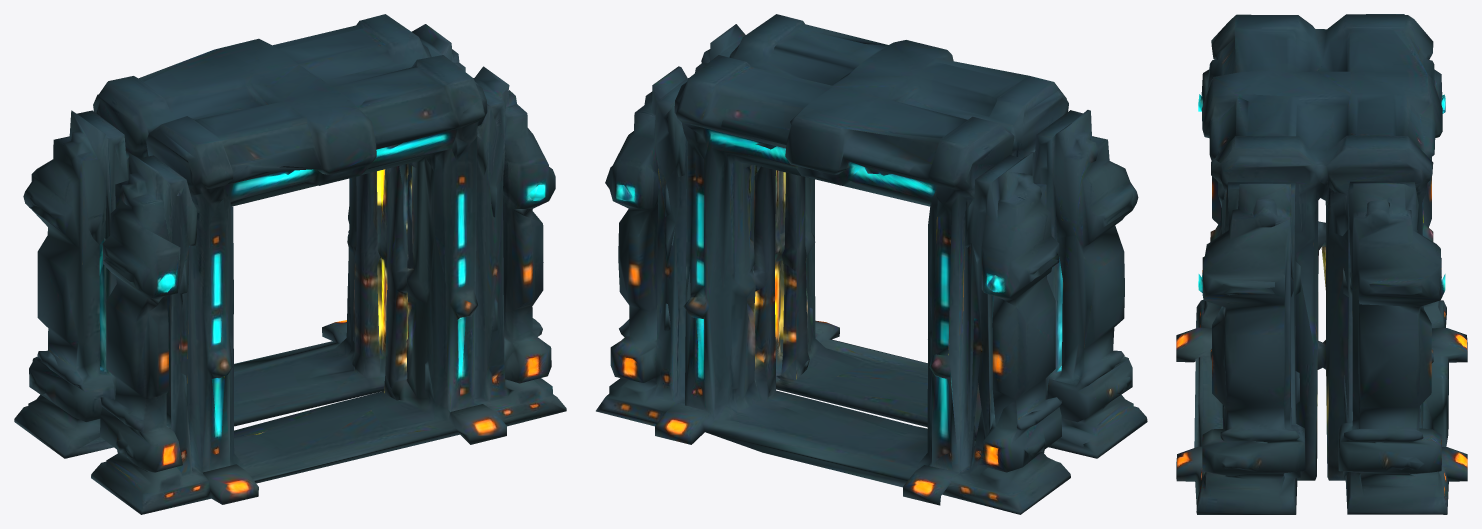
File: player_tunnel_gate.glb
The picture shows the model from 3 angles, left to right: view 1: azimuth 30°, elevation 25°; view 2: azimuth 150°, elevation 25°; view 3: azimuth 270°, elevation 25°; orthographic projection.
Bounding box in the file's own units: 1.9 × 1.44 × 1.15.
Materials: 1 (1 with a texture image).
